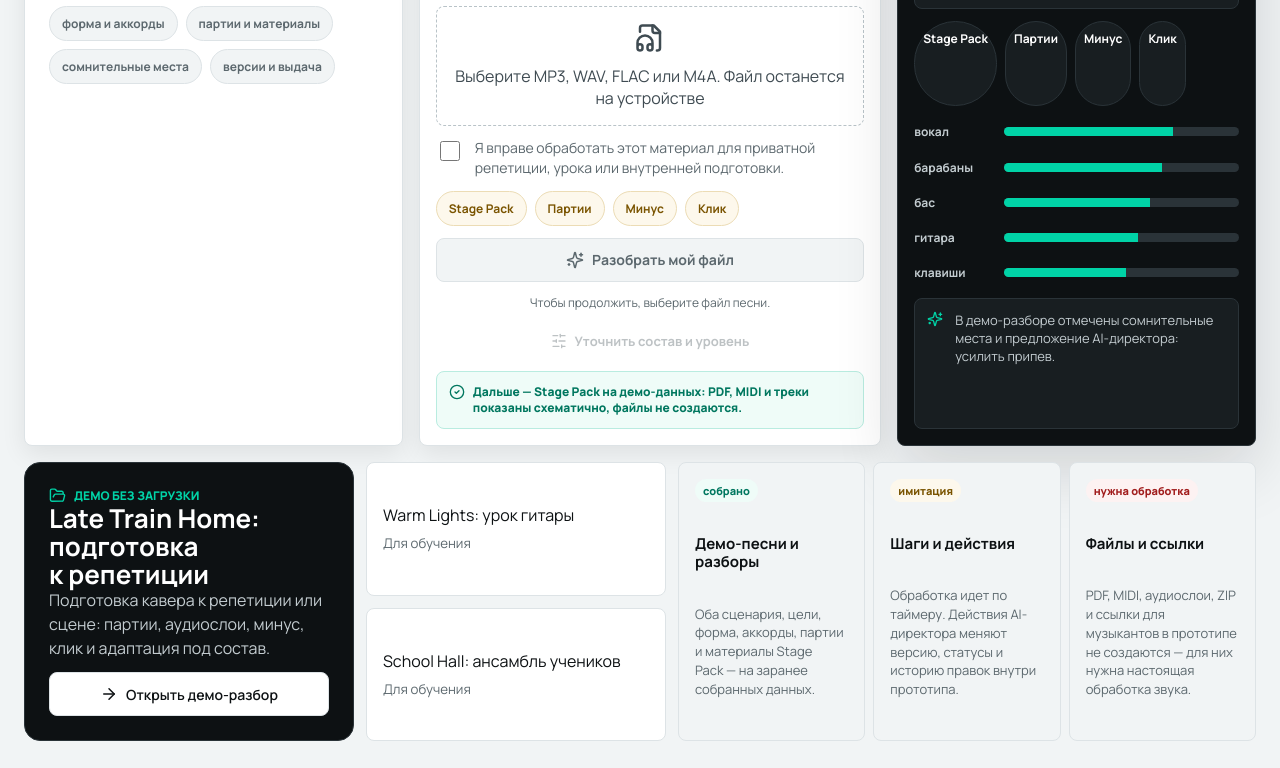
Test: Stage Pack › показывает ответ AI-директора в диалоге после действия
The width and height of the screenshot is (1280, 768).
(page scrolled)
Click the button "Открыть демо-разбор" at [189, 694], box [49,672,329,716]
(page scrolled)
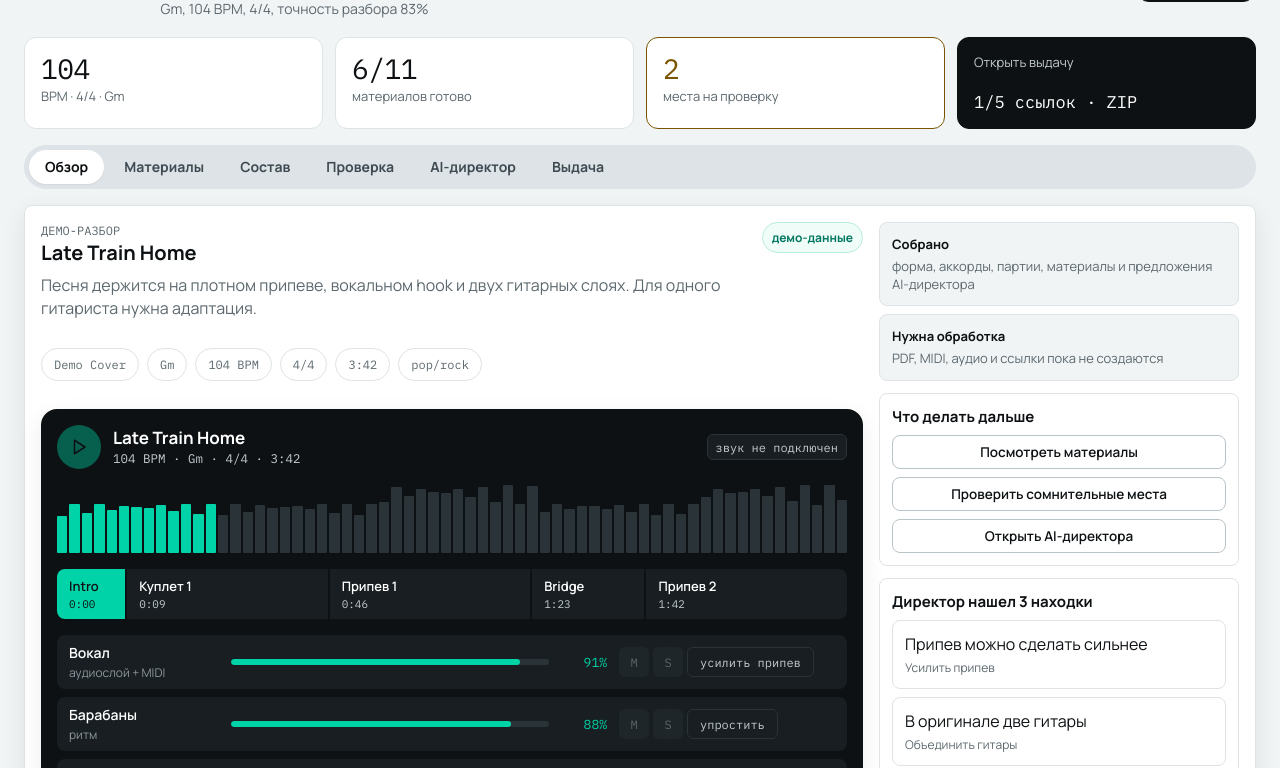
Expected: the tab "Материалы" is shown, [108,150,220,184]
Click the tab "AI-директор" at [473, 167], box [414,150,532,184]
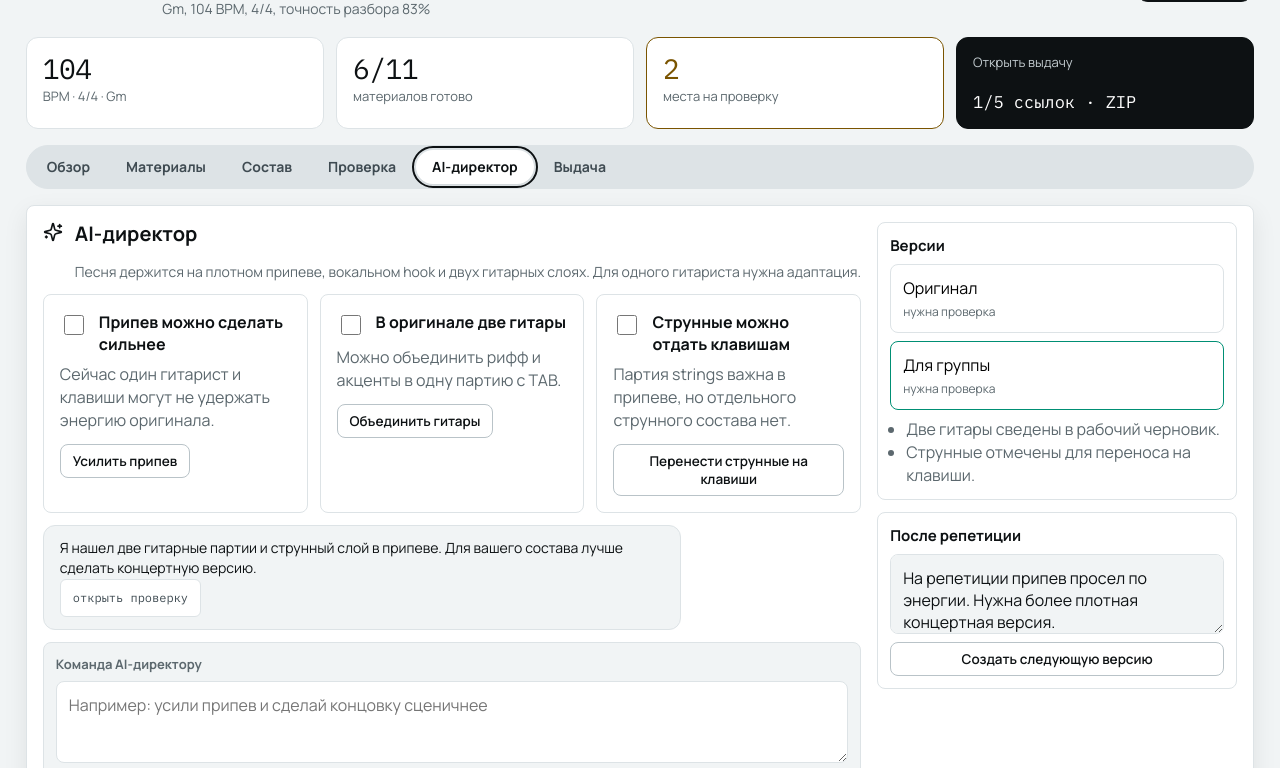
Now the element named "Разговор с AI-директором" shows "Я нашел две гитарные партии", box [60,538,623,577]
Click the button "Усилить припев" at [125, 461], box [60,444,190,478]
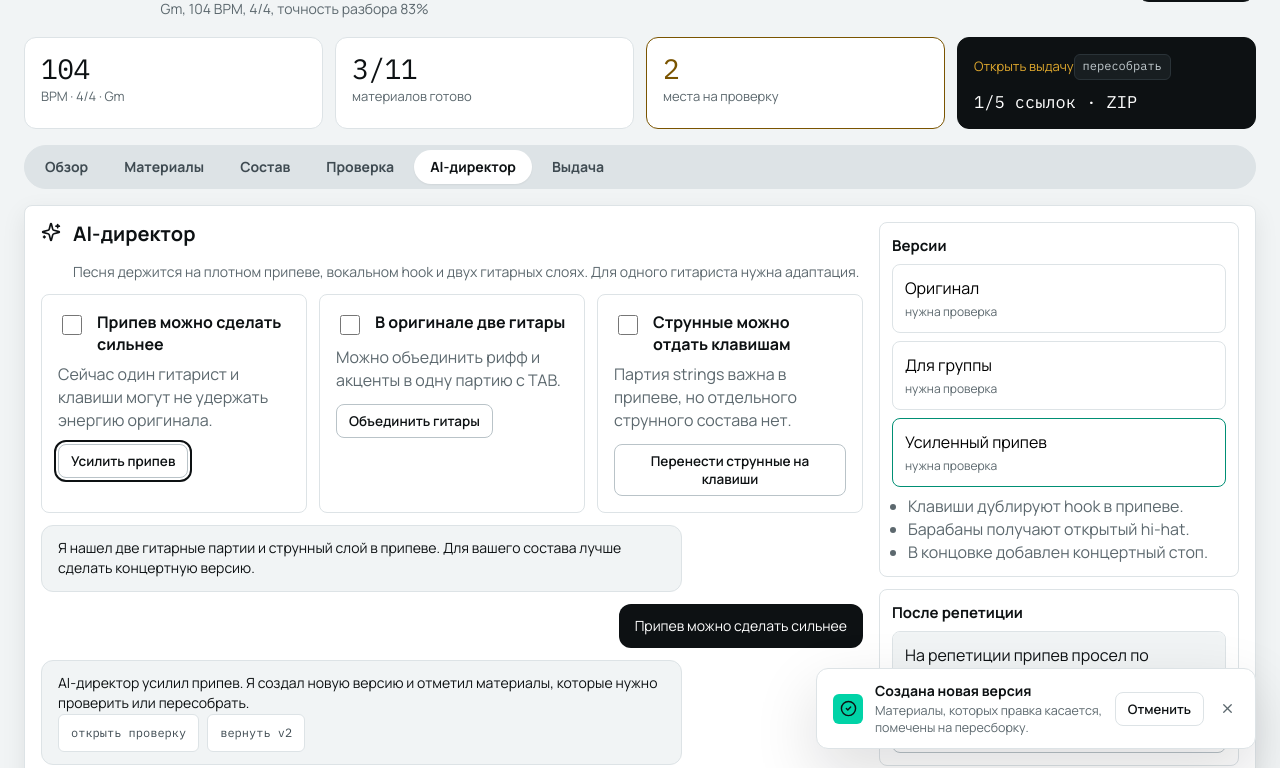
Now the number of elements with class "chat-bubble" is 3, box [41,525,682,592]; [619,604,863,648]; [41,660,682,765]
